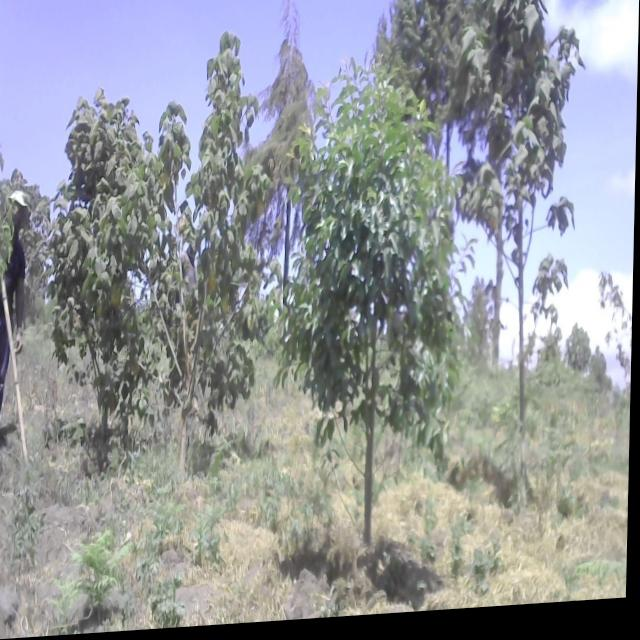Lemon Myrtle: (285, 47, 465, 562)
cedrus: (259, 0, 320, 216), (388, 0, 476, 94)
other: (151, 17, 259, 484), (47, 85, 164, 491), (463, 0, 564, 459)
